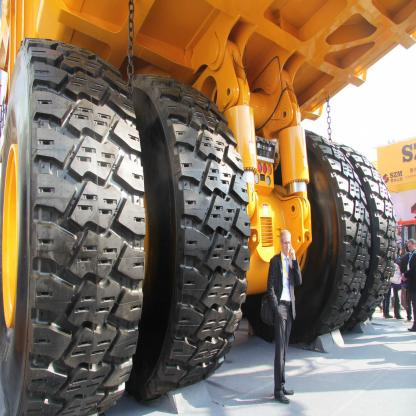person: (263, 226, 303, 400)
